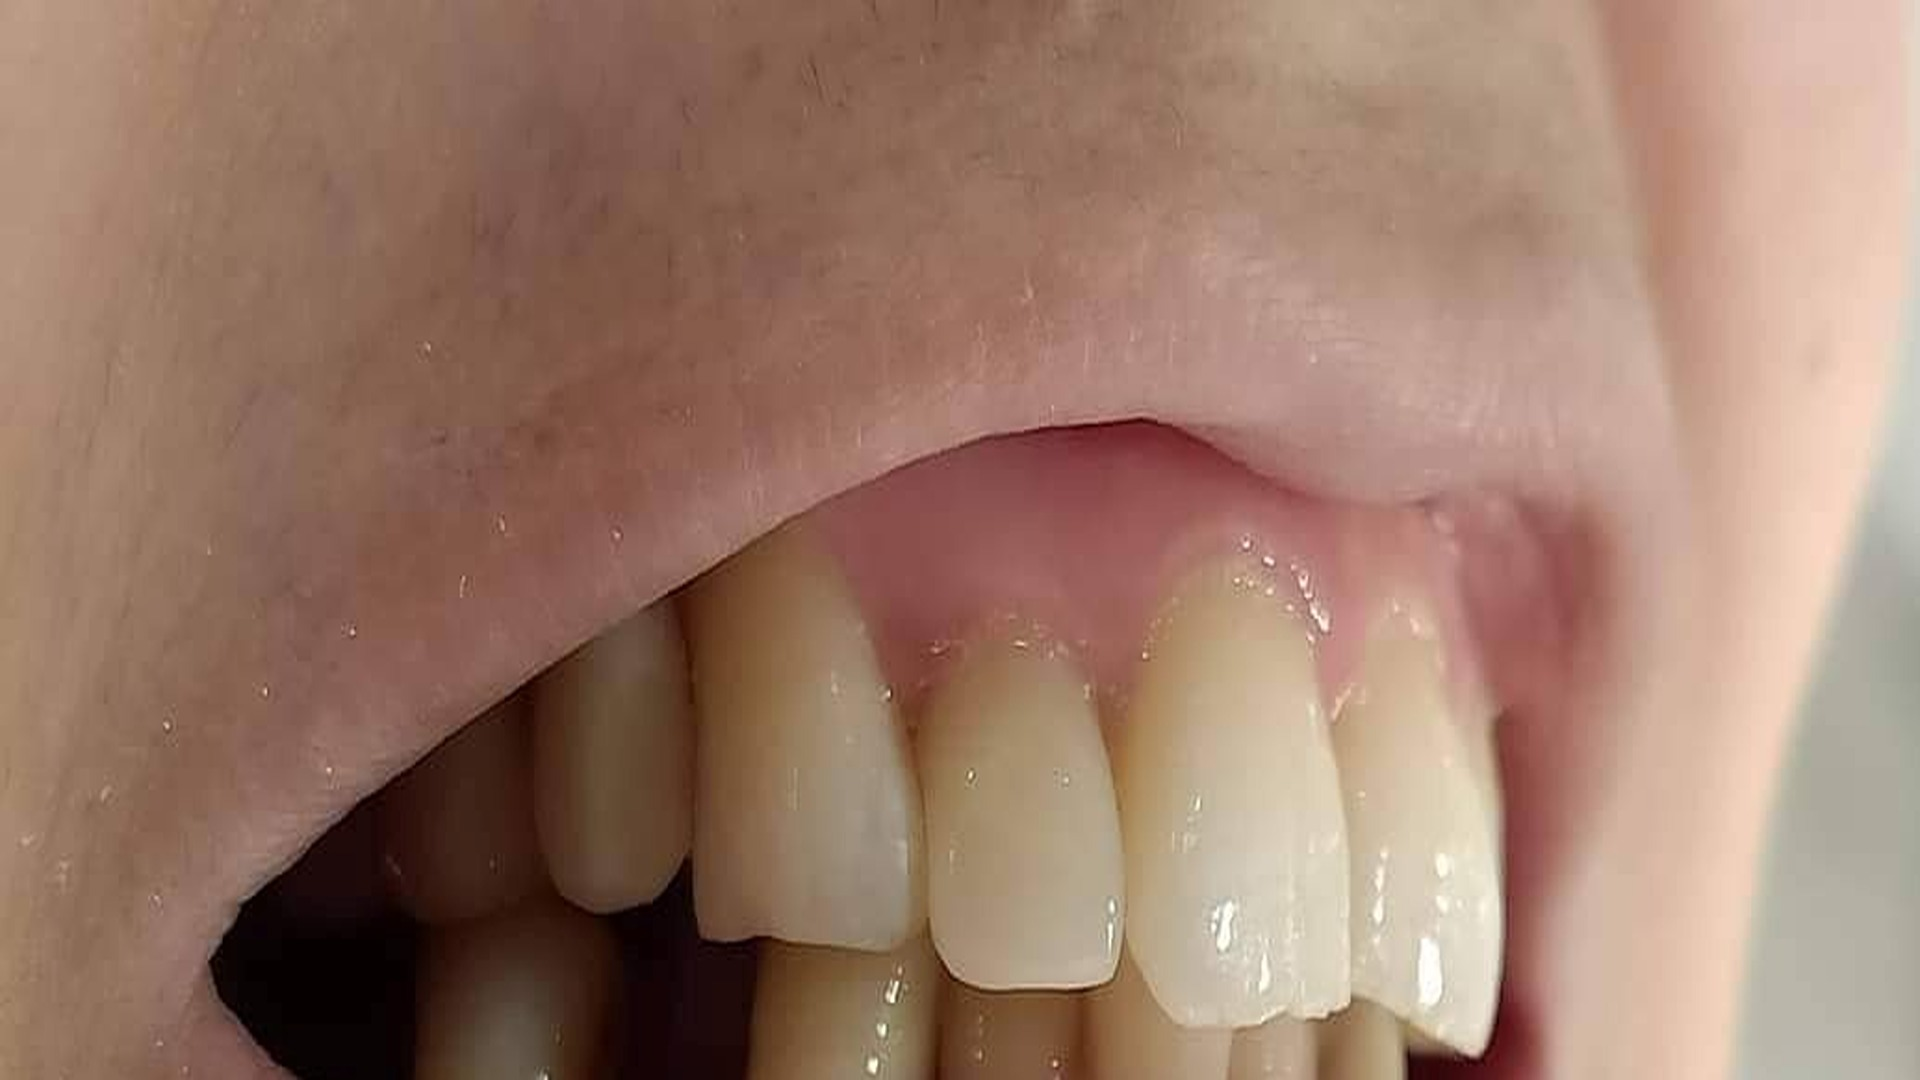tooth: (1120, 575, 1352, 1029), (684, 526, 913, 951), (1331, 600, 1505, 1060), (918, 640, 1127, 990), (534, 597, 696, 914), (746, 920, 938, 1077), (1085, 939, 1233, 1077), (938, 967, 1087, 1077), (1305, 997, 1408, 1077), (1229, 1023, 1319, 1077)
